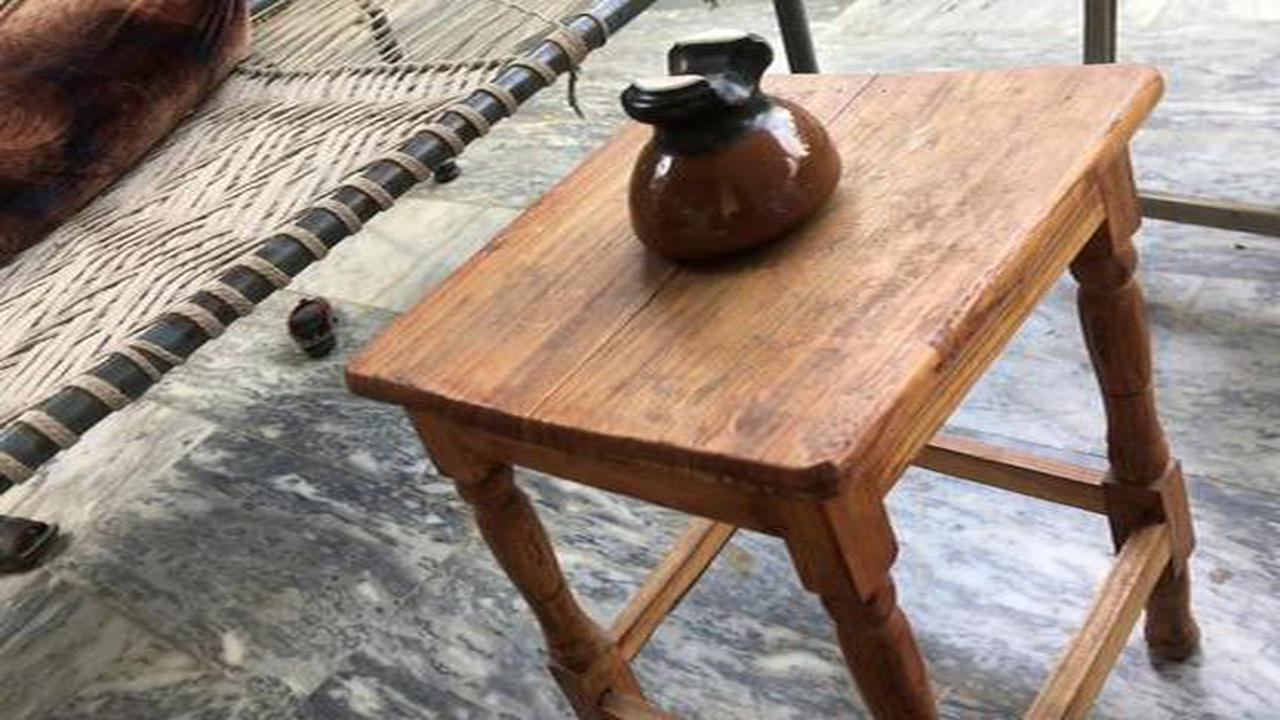insulator_pin: (594, 20, 862, 277)
